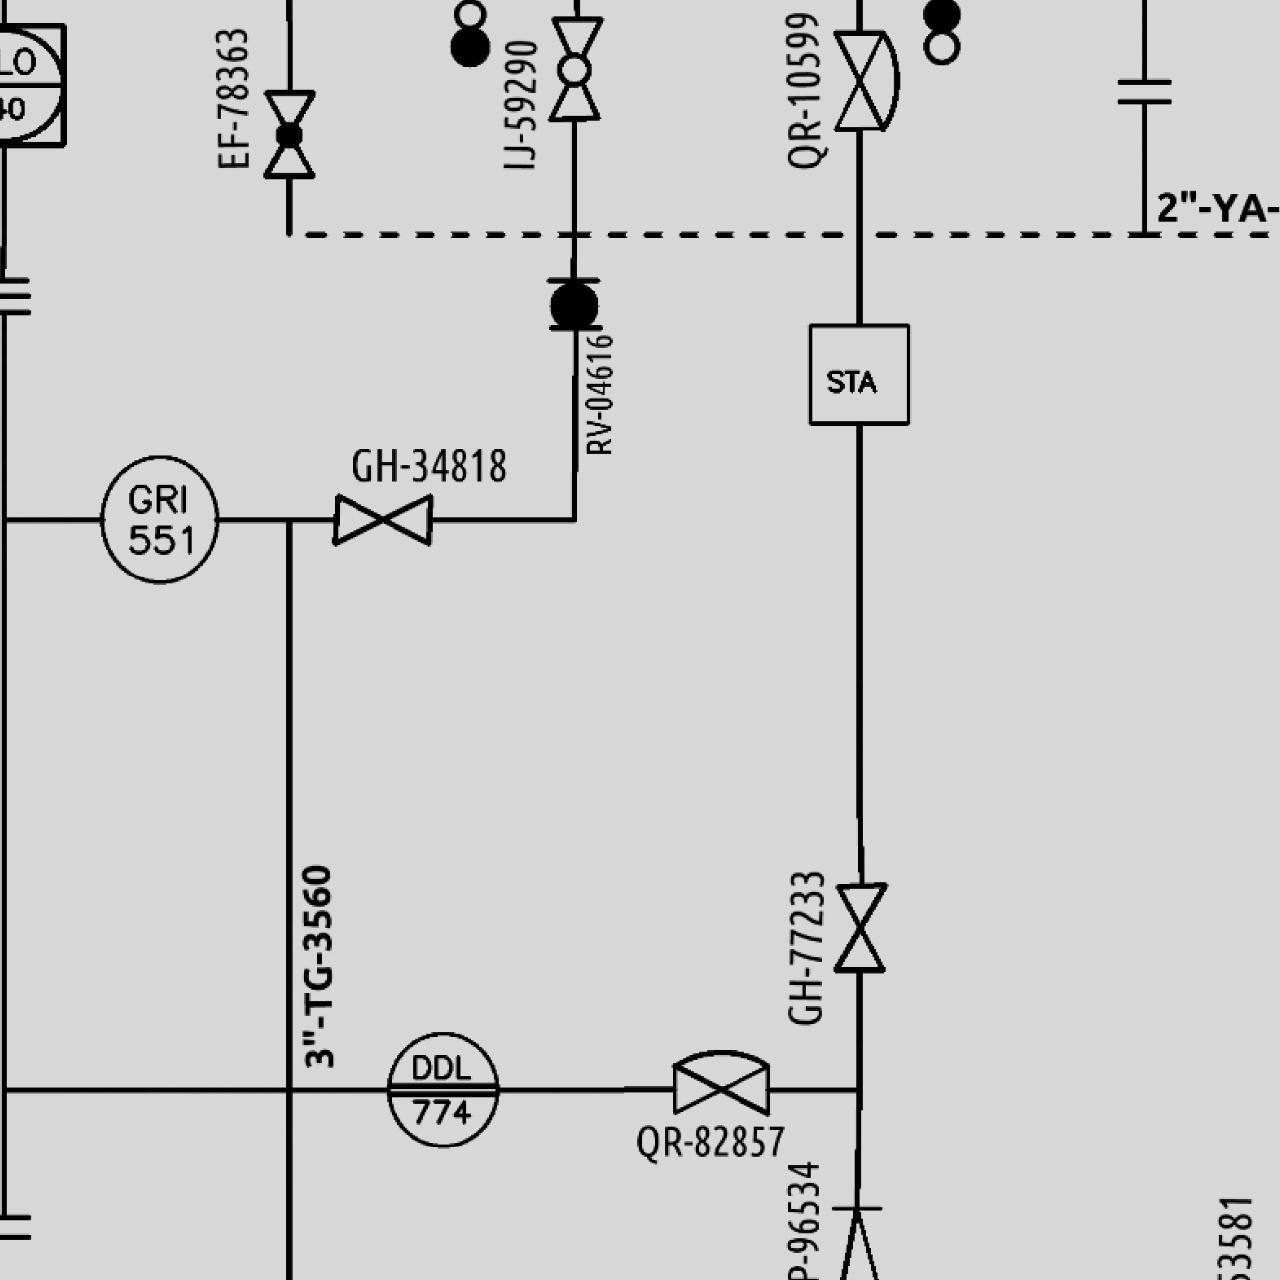Control-Panel: (377, 1026, 506, 1151)
